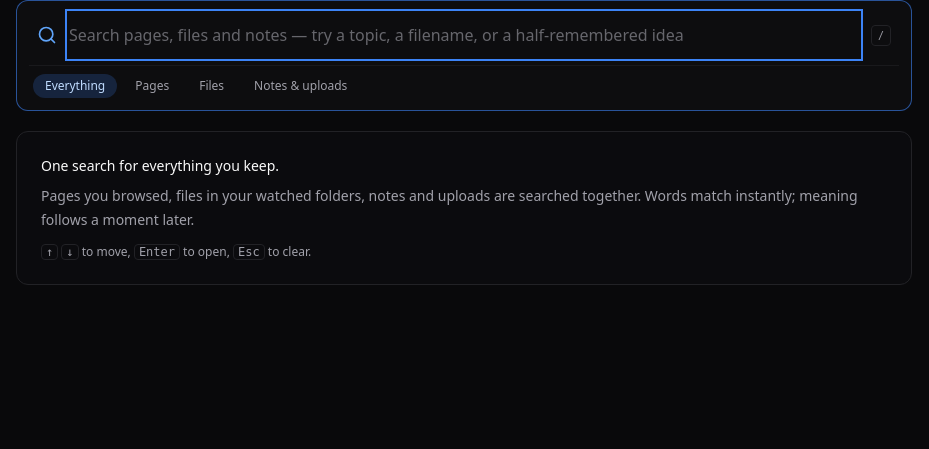
Scenario: unified search page › filters by kind and opens files on this computer
Later steps or results of the test are not shown.
Replace the text in the field named "Search your pages" with "cedar": [464, 35] box top-left (69, 13), bottom-right (859, 57)
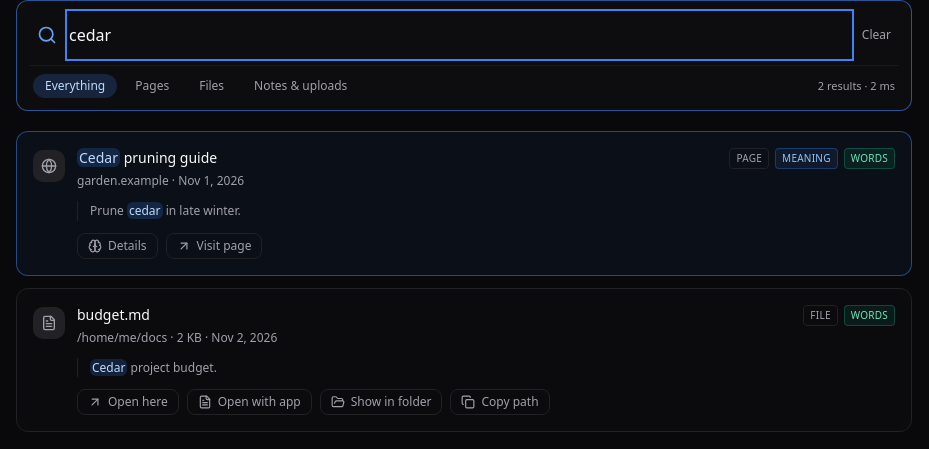
Check: the button "budget.md" is shown, box top-left (77, 304), bottom-right (150, 324)
